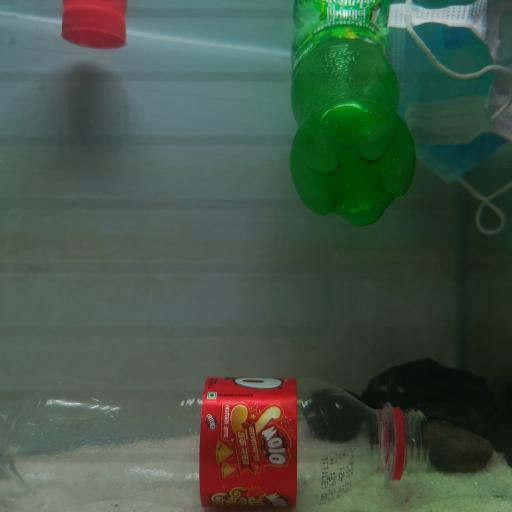bottle_cap: (62, 8, 130, 48)
mask: (380, 14, 512, 232)
plastic_bottle: (2, 377, 427, 512), (290, 24, 414, 230)
